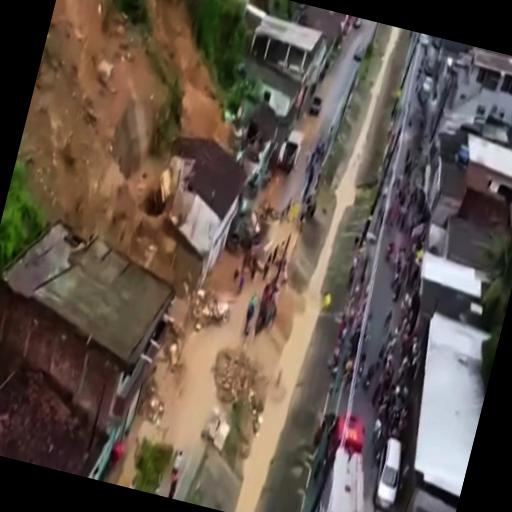flood: (234, 26, 399, 512), (165, 323, 240, 489)
house: (0, 206, 185, 434), (387, 305, 503, 502), (143, 126, 254, 269), (237, 8, 332, 120), (441, 126, 512, 230), (449, 45, 512, 136), (414, 158, 474, 232)
